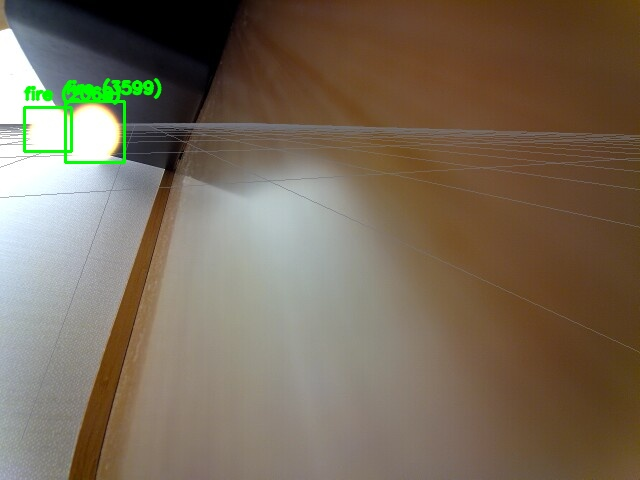fire: (65, 101, 124, 162), (24, 107, 71, 151)
